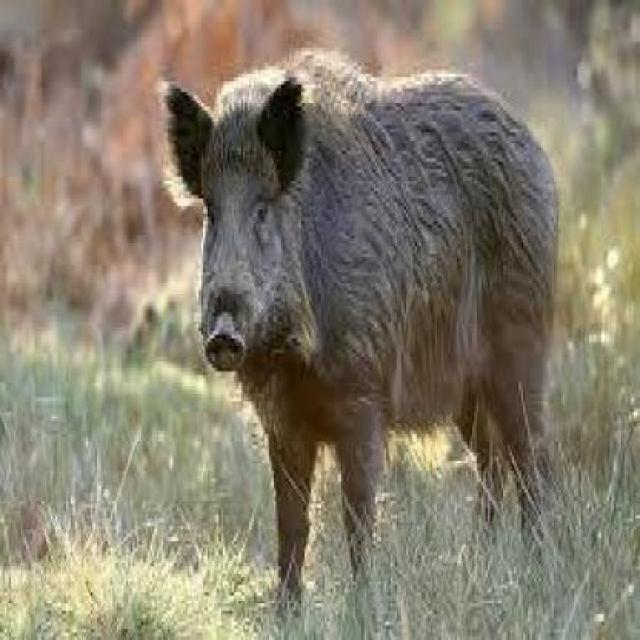wildboar: (164, 46, 562, 600)
